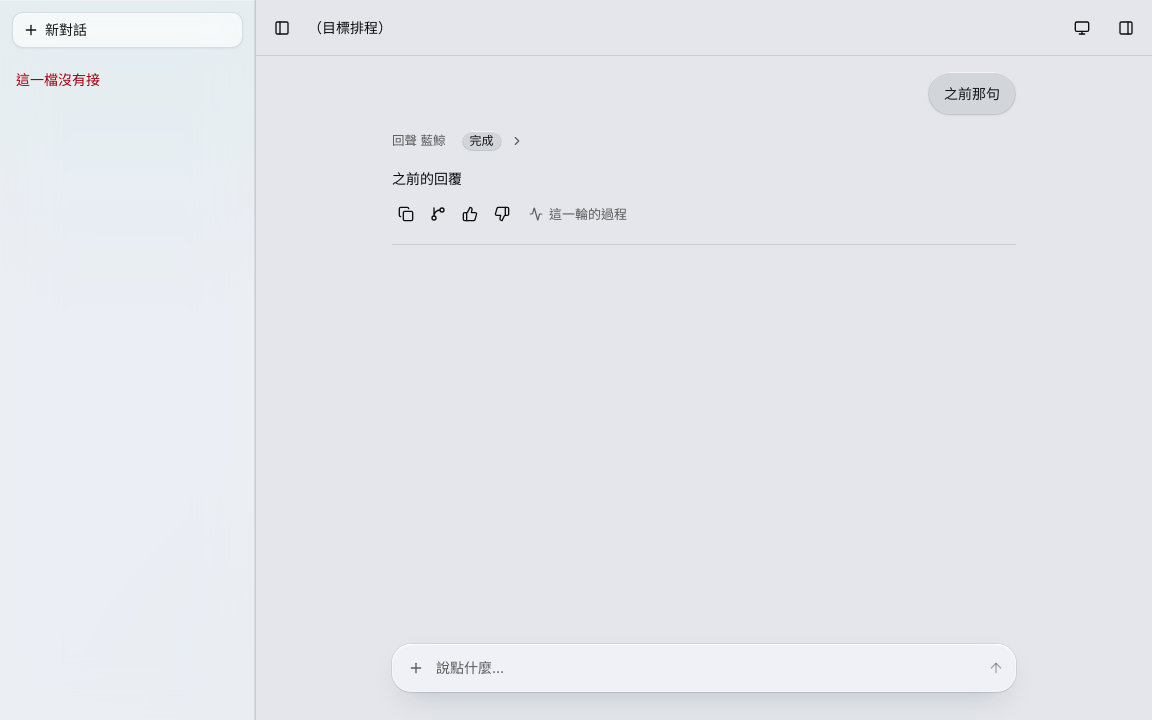
Test: 畫面照日誌重播 › 接回記住的那條（#3054）：重播的內容結尾畫一條線，之後送的話排在線下面
The image size is (1152, 720).
Type "新的一句" into the text box named "要說的話" at (706, 668), box [436,652,976,684]
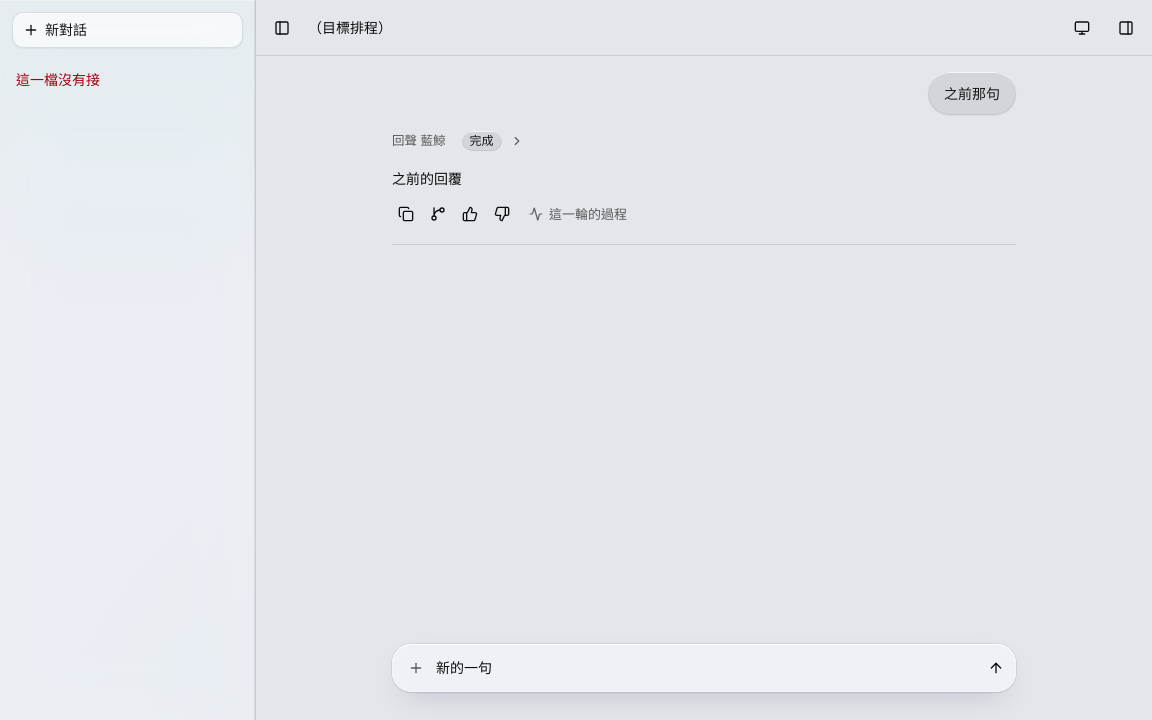
Click the button named "送出" at (996, 668), box [980,652,1012,684]
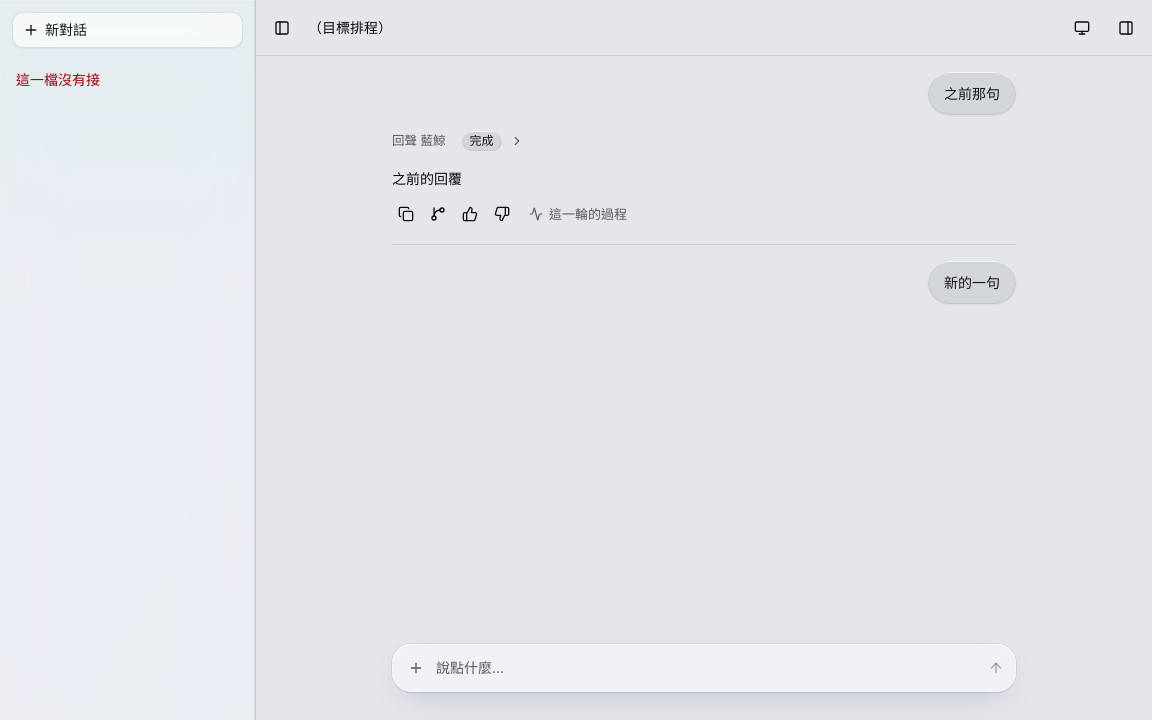
Expected: the element showing "之前的回覆 這一輪的過程" is shown, [392,170,636,228]
Expected: the button "新的一句" is shown, [928,261,1016,304]
Expected: the element showing "新的一句" is shown, [928,261,1016,304]
